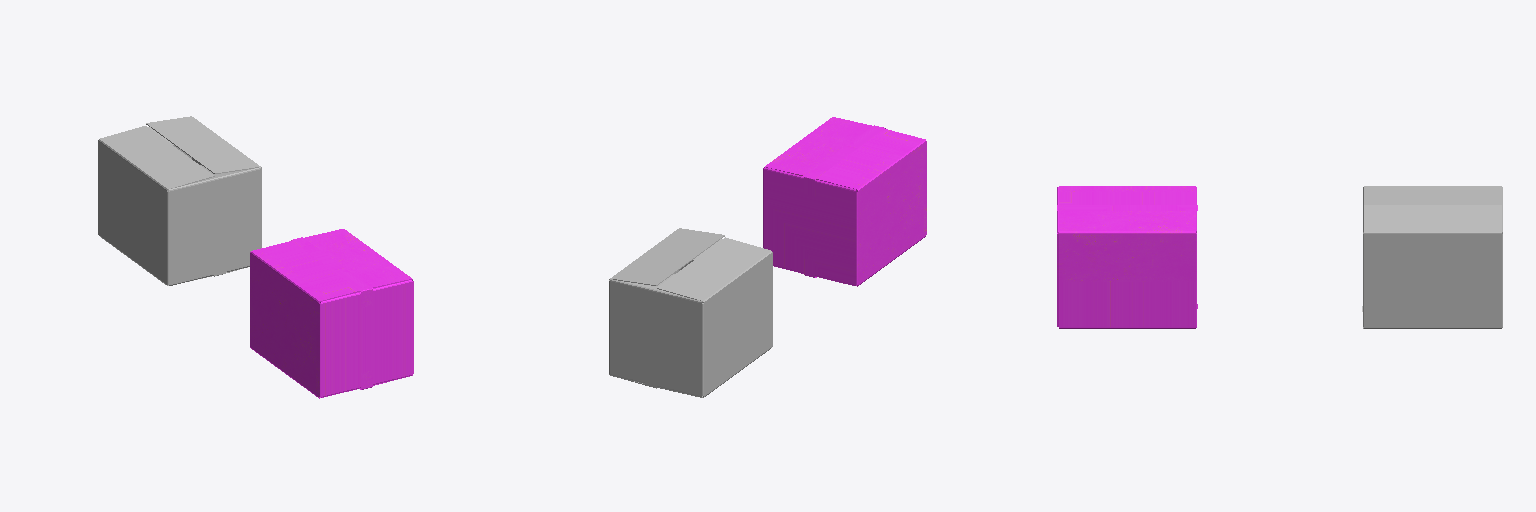
3 renders of one model, left to right at view 1: azimuth 30°, elevation 25°; view 2: azimuth 150°, elevation 25°; view 3: azimuth 270°, elevation 25°, orthographic.
Parts seen in each view (by area): view 1: Object_9, Object_10.001, Object_2.001; view 2: Object_9, Object_10.001, Object_2.001; view 3: Object_9, Object_10.001, Object_2.001.
Part boxes in pixels (x1,y1,x2,y2): Object_9: (98, 116, 261, 285); Object_10.001: (250, 229, 413, 398); Object_2.001: (291, 237, 372, 307); Object_9: (609, 228, 772, 397); Object_10.001: (763, 117, 926, 286); Object_2.001: (804, 125, 885, 196); Object_9: (1362, 186, 1502, 328); Object_10.001: (1057, 186, 1197, 328); Object_2.001: (1057, 205, 1197, 210).
Size of the model in its own units: 0.4207 by 0.4327 by 1.7.
3 materials, 1 textured.